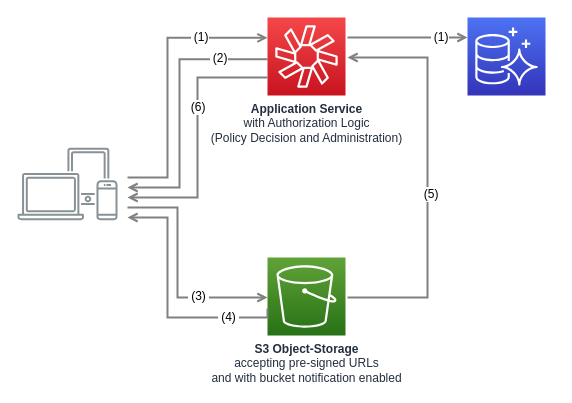
This 572x403 diagram has some shape labels left out. The shapes that lost their labels are listed below. From the top down, each one's centre as x and y in pixels, then its label:
At point (506, 56): "Database with application and authorization logic".
At point (67, 183): "Client Devices (Browser / Mobile)".
